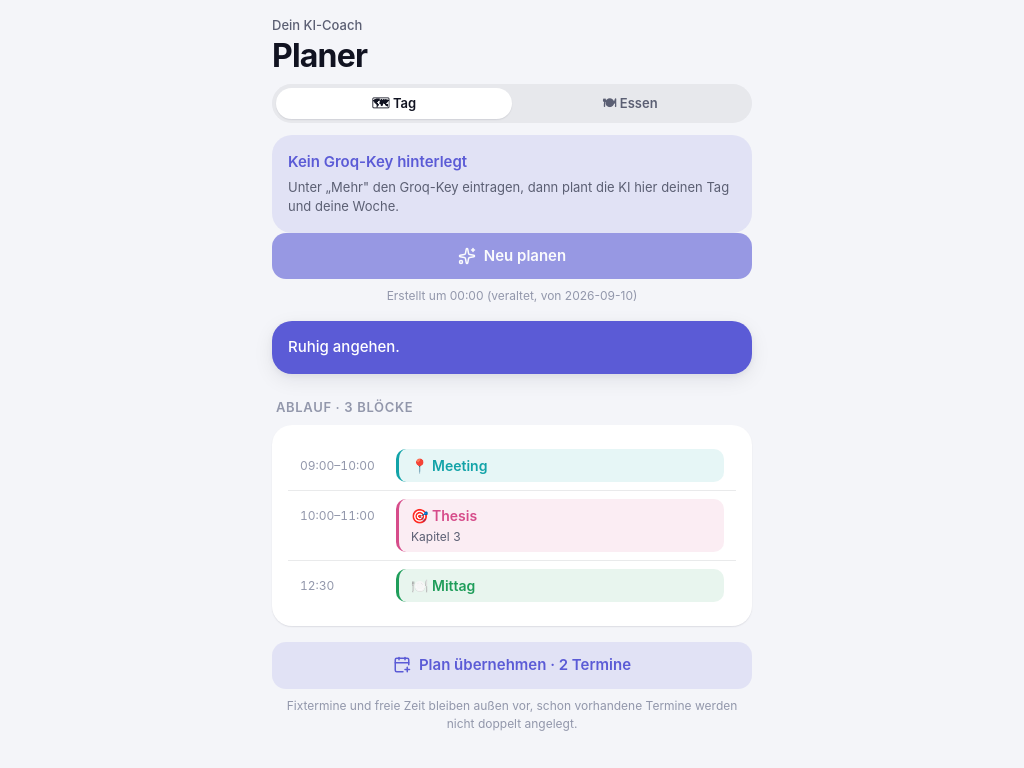
Test case: Planer-Screen › zeigt einen vorhandenen Plan und übernimmt die Blöcke als Termine
Expected: the text "Ruhig angehen." is shown, [288,337,400,356]
Expected: the text "🎯 Thesis" is shown, [411,507,477,524]
Click the button "Plan übernehmen · 2 Termine".
click(512, 665)  # box [272,642,752,689]
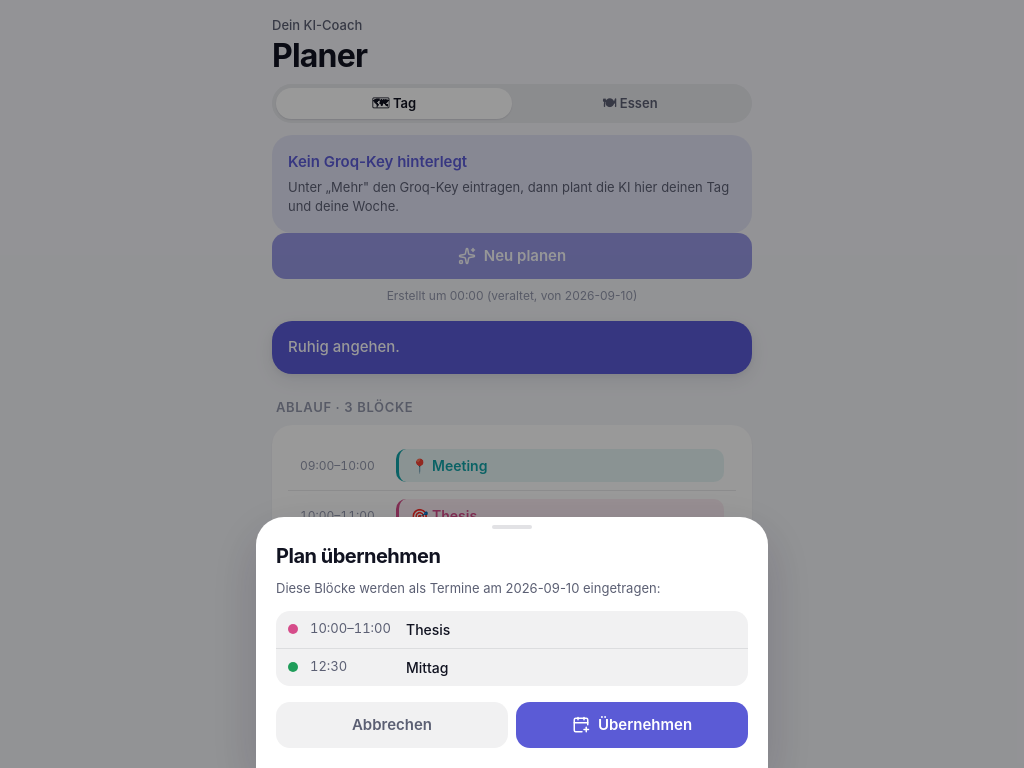
Click the button "Übernehmen".
click(632, 725)  # box [516,702,748,748]
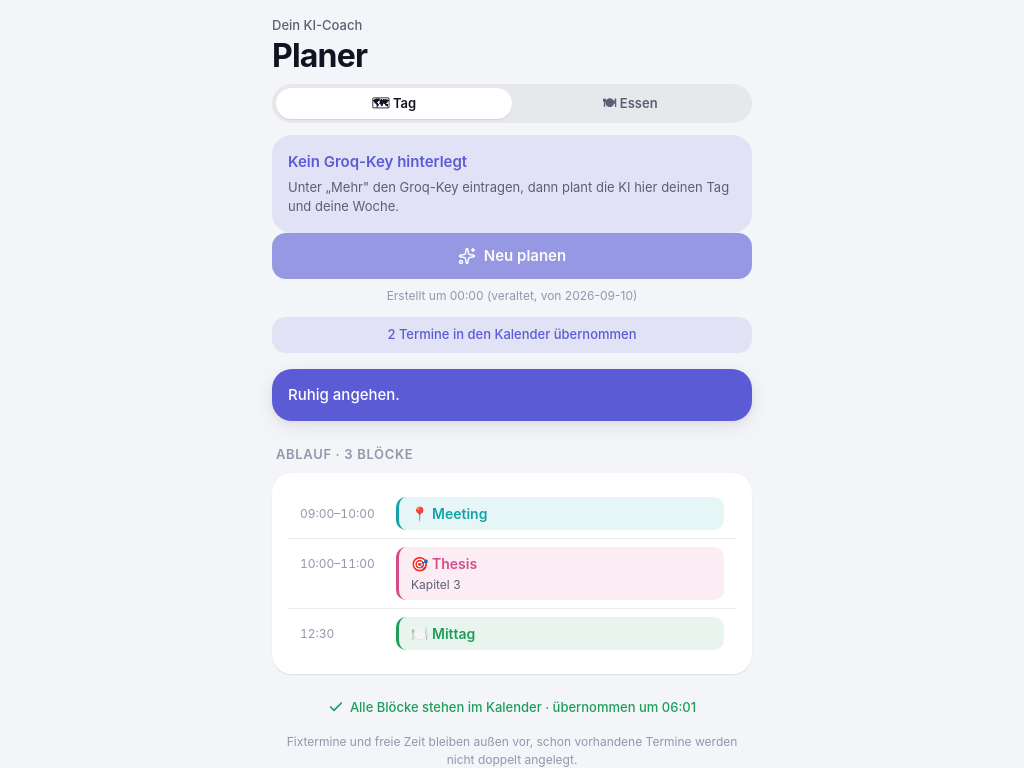
Now the text "Alle Blöcke stehen im Kalender · übernommen um 06:01" is shown, box [328,699,696,715]
